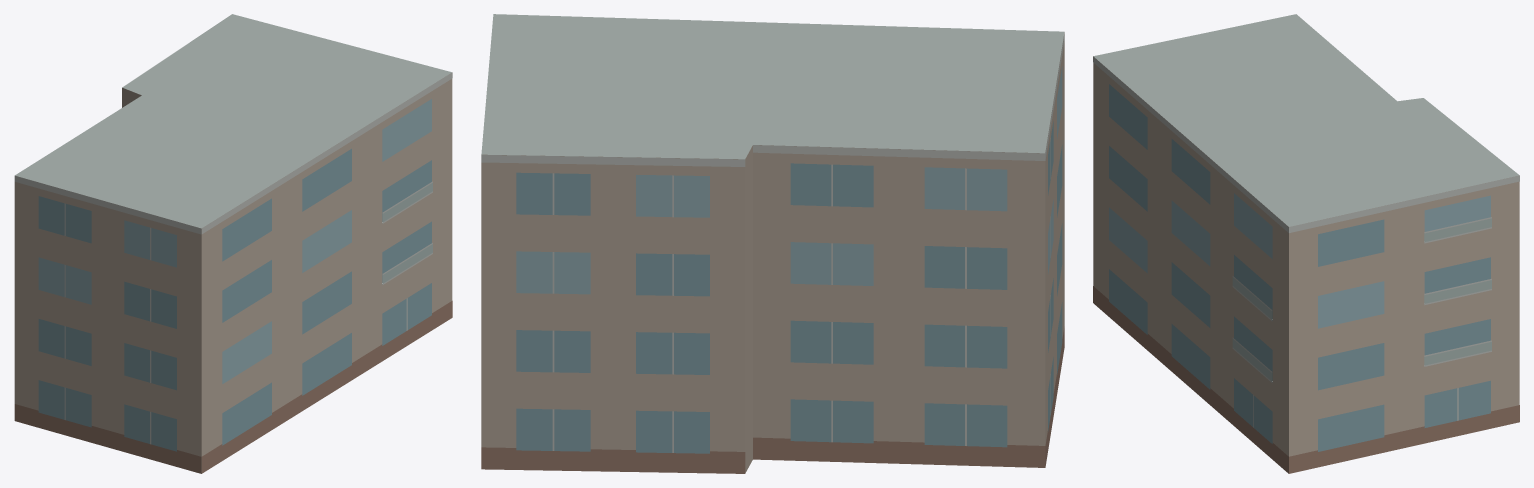
The model's file is survey-upis-33015250.glb.
3 views of the same model, side by side, from view 1: azimuth 30°, elevation 25°; view 2: azimuth 150°, elevation 25°; view 3: azimuth 270°, elevation 25° (orthographic). The views are drawn at different scales.
Parts seen in each view (by area): view 1: survey-upis-33015250.tmp; view 2: survey-upis-33015250.tmp; view 3: survey-upis-33015250.tmp.
Boxes of the visible parts, x1=… form: survey-upis-33015250.tmp: x1=14, y1=14, x2=452, y2=473; survey-upis-33015250.tmp: x1=481, y1=14, x2=1064, y2=473; survey-upis-33015250.tmp: x1=1093, y1=14, x2=1519, y2=473.
Size of the model in its own units: 18.15 by 9.8 by 15.36.
